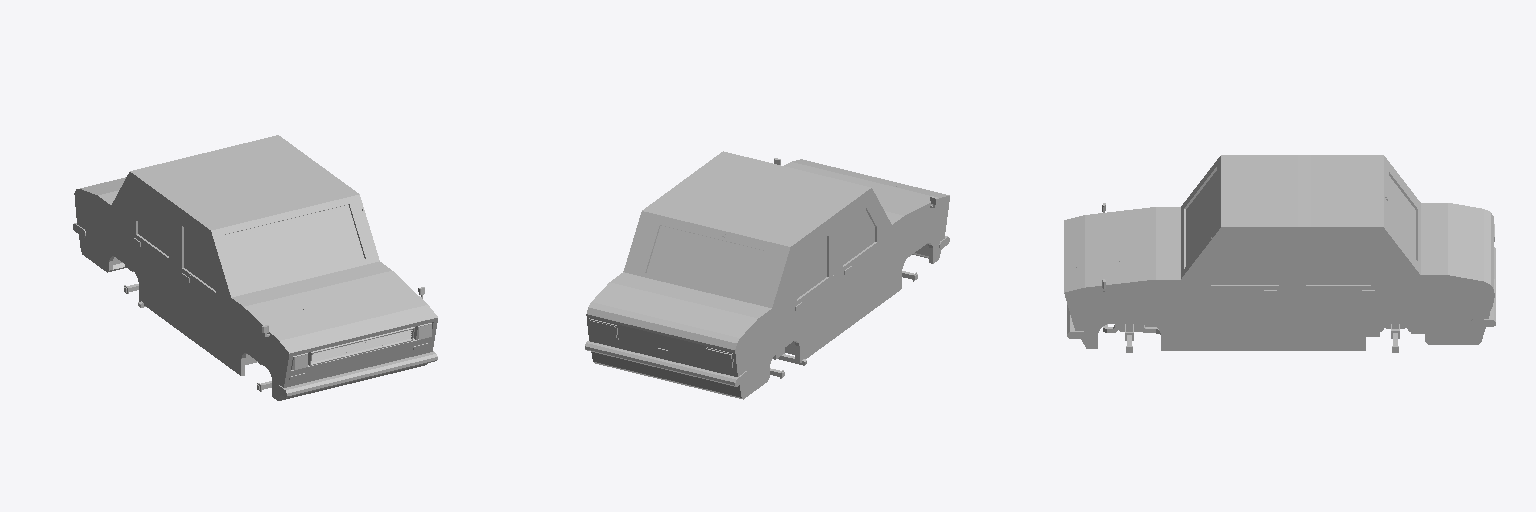
Rendered from colada.obj.
3 renders of one model, left to right at view 1: azimuth 30°, elevation 25°; view 2: azimuth 150°, elevation 25°; view 3: azimuth 270°, elevation 25°, orthographic.
Visible parts, largest first — view 1: cube, glass, hood, frontrightdoor, rearrightdoor; view 2: cube, glass, trunk, frontrightdoor, rearrightdoor, hood; view 3: cube, frontleftdoor, rearleftdoor, hood, glass, trunk.
Part boxes in pixels (x1,y1,x2,y2): cube: (73, 135, 437, 400); glass: (226, 205, 364, 288); hood: (269, 277, 413, 348); frontrightdoor: (177, 214, 226, 356); rearrightdoor: (129, 189, 172, 316); cube: (585, 151, 949, 399); glass: (647, 226, 766, 298); trunk: (619, 285, 731, 363); frontrightdoor: (838, 198, 887, 326); rearrightdoor: (789, 223, 833, 351); hood: (809, 165, 924, 207); cube: (1064, 155, 1495, 350); frontleftdoor: (1189, 235, 1287, 341); rearleftdoor: (1297, 235, 1385, 341); hood: (1064, 219, 1155, 280); glass: (1186, 171, 1415, 265); trunk: (1434, 219, 1493, 272).
Bounding box in the file's own units: 2.46 × 1.88 × 5.66.